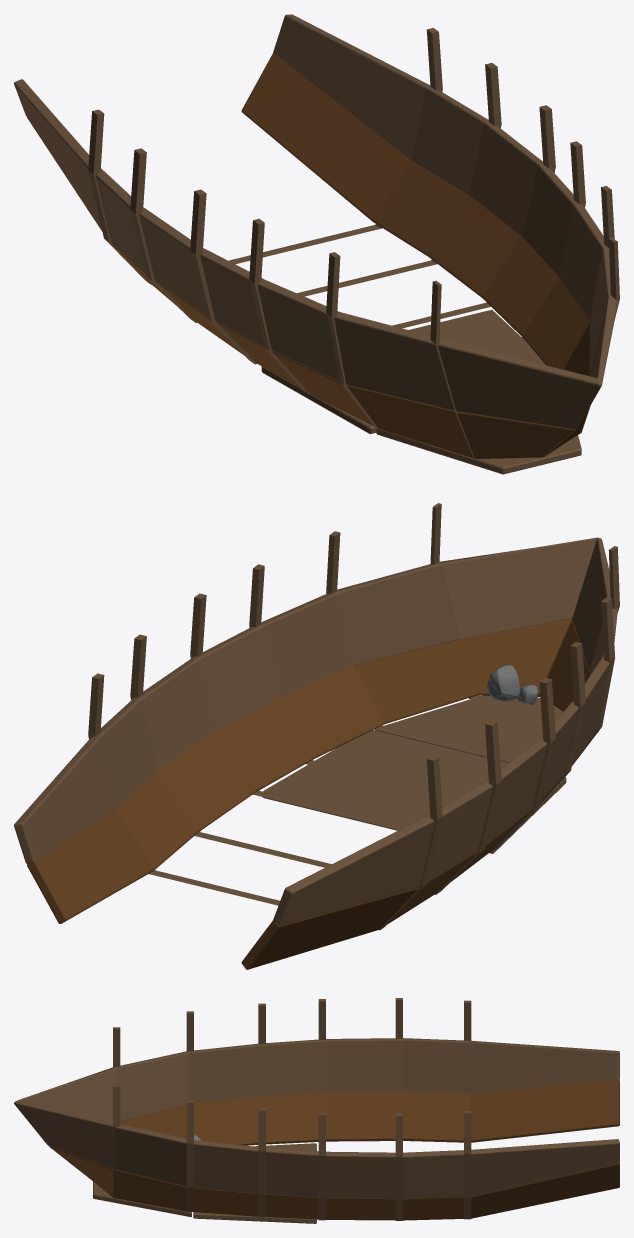
File: Broken Boat 2.fbx
3 views of the same model, one above another, from view 1: azimuth 30°, elevation 25°; view 2: azimuth 150°, elevation 25°; view 3: azimuth 270°, elevation 25° (orthographic). The views are drawn at different scales.
Parts seen in each view (by area): view 1: Boat Main Shape.003, Boat Main Shape.004, Boat Main Shape.001, Cube.005, Cube.006; view 2: Boat Main Shape.003, Boat Main Shape.004, Boat Main Shape.001, Cube.005, Cube.006, Cube.002; view 3: Boat Main Shape.003, Boat Main Shape.004, Boat Main Shape.001, Cube.005, Cube.006.
Boxes of the visible parts, left/top/right/bottom form: Boat Main Shape.003: left=14, top=14, right=617, bottom=429; Boat Main Shape.004: left=27, top=53, right=589, bottom=458; Boat Main Shape.001: left=88, top=28, right=619, bottom=459; Cube.005: left=261, top=309, right=545, bottom=434; Cube.006: left=376, top=428, right=581, bottom=474; Boat Main Shape.003: left=14, top=537, right=617, bottom=925; Boat Main Shape.004: left=27, top=619, right=596, bottom=969; Boat Main Shape.001: left=88, top=503, right=619, bottom=930; Cube.005: left=262, top=730, right=566, bottom=853; Cube.006: left=374, top=695, right=562, bottom=762; Cube.002: left=487, top=665, right=520, bottom=701; Boat Main Shape.003: left=14, top=1038, right=619, bottom=1198; Boat Main Shape.004: left=49, top=1080, right=619, bottom=1220; Boat Main Shape.001: left=113, top=998, right=471, bottom=1220; Cube.005: left=193, top=1143, right=316, bottom=1223; Cube.006: left=93, top=1181, right=191, bottom=1216.
Bounding box in the file's own units: 285 × 142 × 605.
